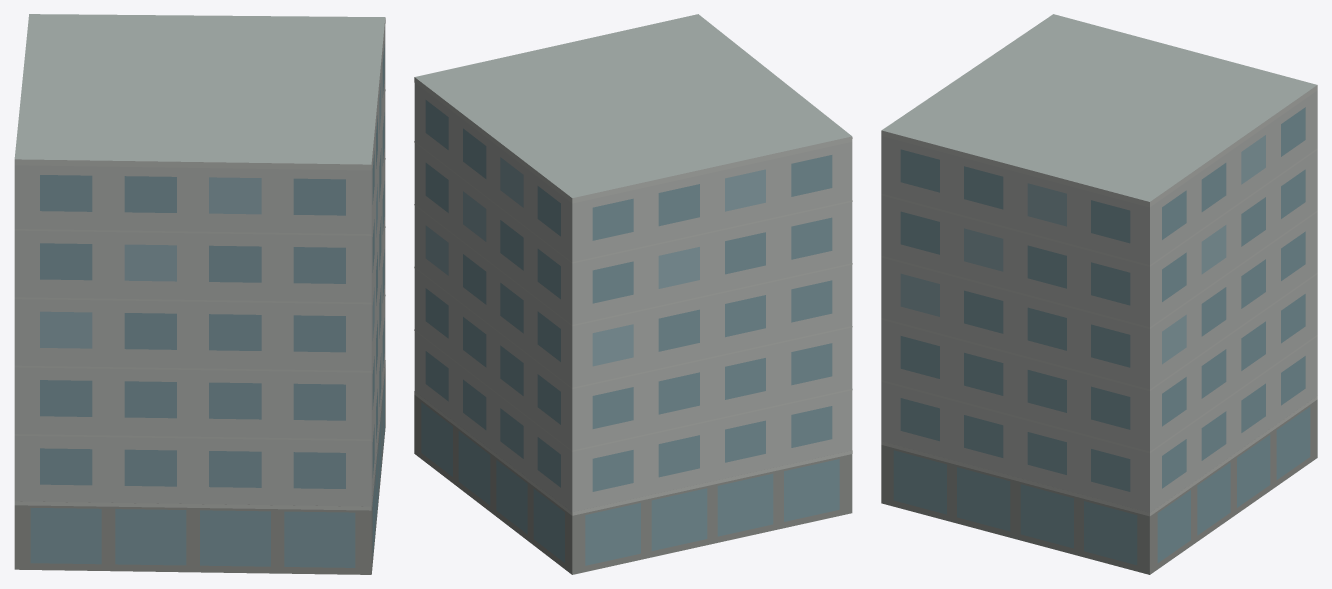
Rendered from survey-upis-32914310.glb.
3 views of the same model, side by side, from view 1: azimuth 30°, elevation 25°; view 2: azimuth 150°, elevation 25°; view 3: azimuth 270°, elevation 25° (orthographic). The views are drawn at different scales.
Visible parts, largest first — view 1: survey-upis-32914310.tmp; view 2: survey-upis-32914310.tmp; view 3: survey-upis-32914310.tmp.
Part boxes in pixels (x1,y1,x2,y2): survey-upis-32914310.tmp: (14,14,385,574); survey-upis-32914310.tmp: (414,14,852,574); survey-upis-32914310.tmp: (881,14,1317,574).
Bounding box in the file's own units: 18.29 × 16.9 × 17.93.
